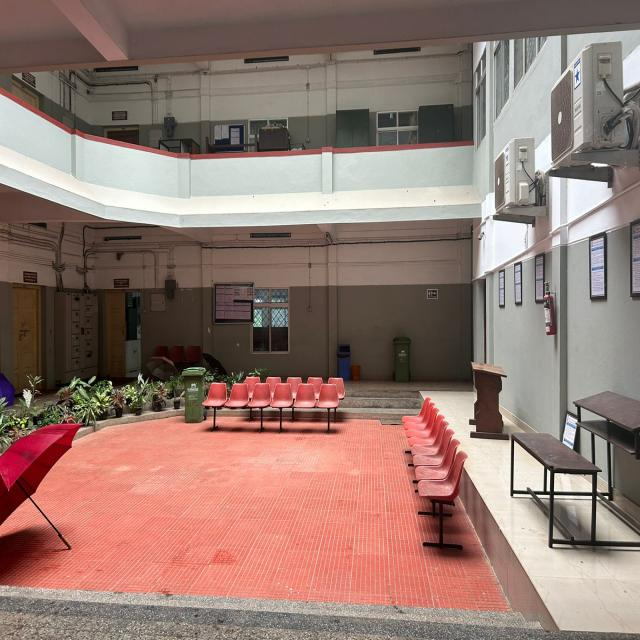Table ahead at: (470, 356, 508, 441)
bench ahead at: (512, 384, 640, 560)
chair ahead at: (202, 376, 228, 410), (243, 377, 271, 408), (318, 383, 340, 411), (230, 379, 247, 408)
dustbin ahead at: (178, 360, 206, 427)
